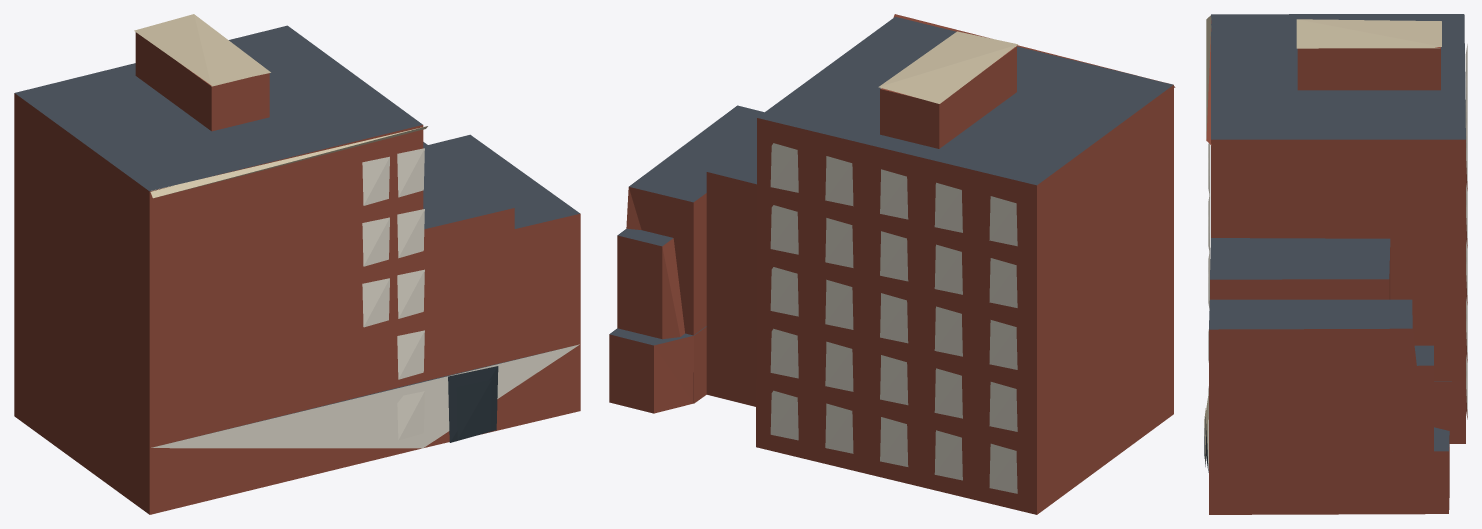
3 views of the same model, side by side, from view 1: azimuth 30°, elevation 25°; view 2: azimuth 150°, elevation 25°; view 3: azimuth 270°, elevation 25° (orthographic). The views are drawn at different scales.
Visible parts, largest first — view 1: lod2; view 2: lod2; view 3: lod2.
Boxes of the visible parts, x1,y1,x2,y2 form: lod2: (14,14,580,514); lod2: (609,14,1175,514); lod2: (1204,14,1467,514).
Size of the model in its own units: 29.64 by 24.38 by 16.74.
